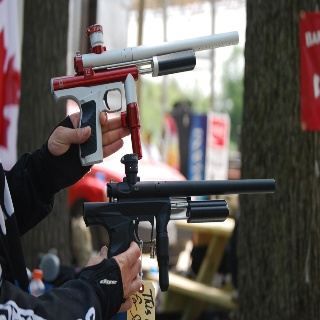pistol: (51, 20, 244, 166), (81, 153, 278, 291)
